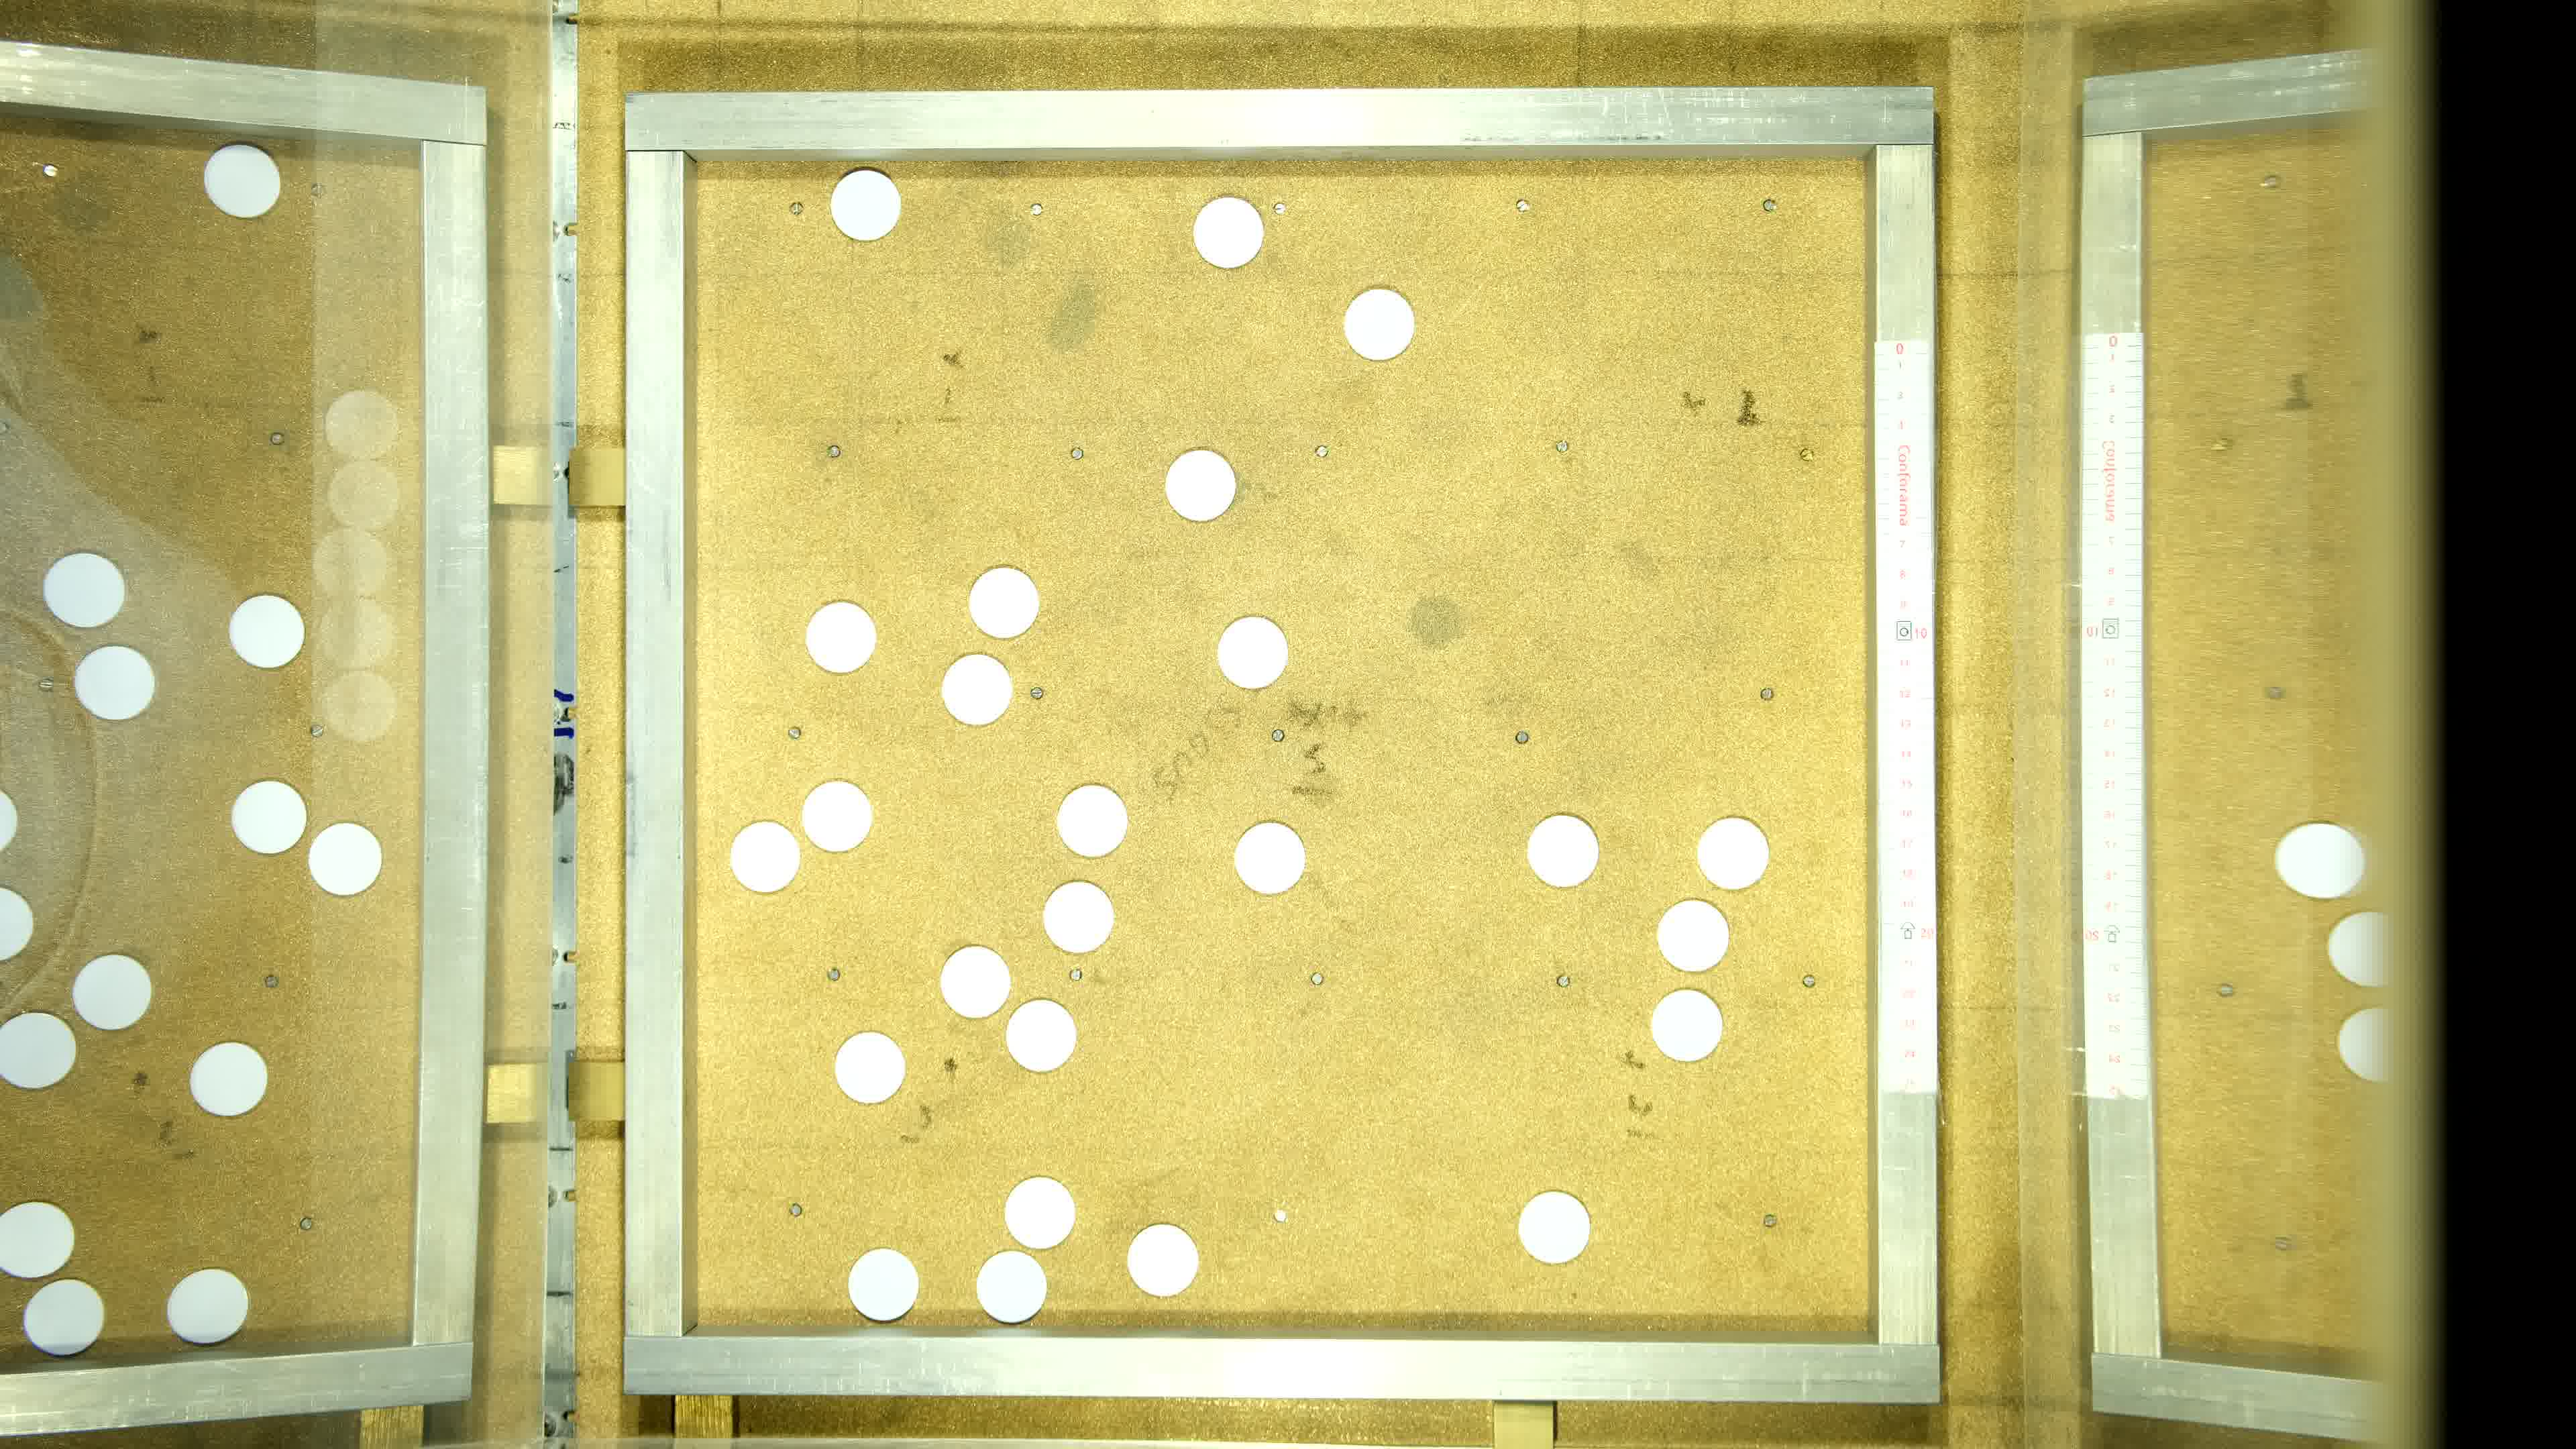pallet: (1654, 897, 1729, 975), (939, 941, 1010, 1019), (1217, 614, 1288, 692), (1003, 1175, 1074, 1253), (1341, 287, 1412, 364), (1044, 879, 1115, 955), (731, 817, 801, 893), (801, 778, 872, 855), (968, 564, 1039, 640), (939, 651, 1010, 727), (1697, 816, 1767, 892), (1527, 812, 1598, 888), (1233, 819, 1304, 895), (1007, 996, 1077, 1072), (835, 1030, 906, 1106), (1518, 1189, 1589, 1265), (977, 1247, 1047, 1323), (1651, 987, 1721, 1063), (830, 166, 901, 242), (1164, 448, 1235, 524), (1058, 782, 1127, 860), (805, 600, 874, 676), (1127, 1223, 1196, 1299), (847, 1246, 916, 1322), (1194, 196, 1263, 272)
